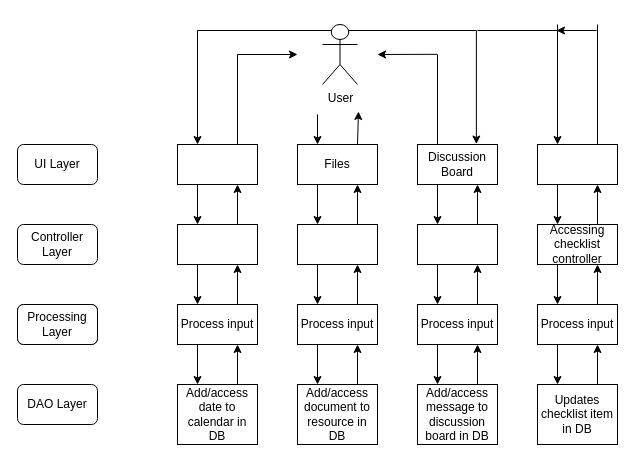
Image size: 635x462. Some labels were removed from this diagram. The shapes that lost their labels are listed below. From the top down, each one's centre as x and y in pixels, then its label:
At point (217, 164): "Calendar".
At point (577, 164): "Checklist".
At point (217, 244): "Accessing calendar controller".
At point (337, 244): "Accessing resource controller".
At point (457, 244): "Accessing disc. board controller".
